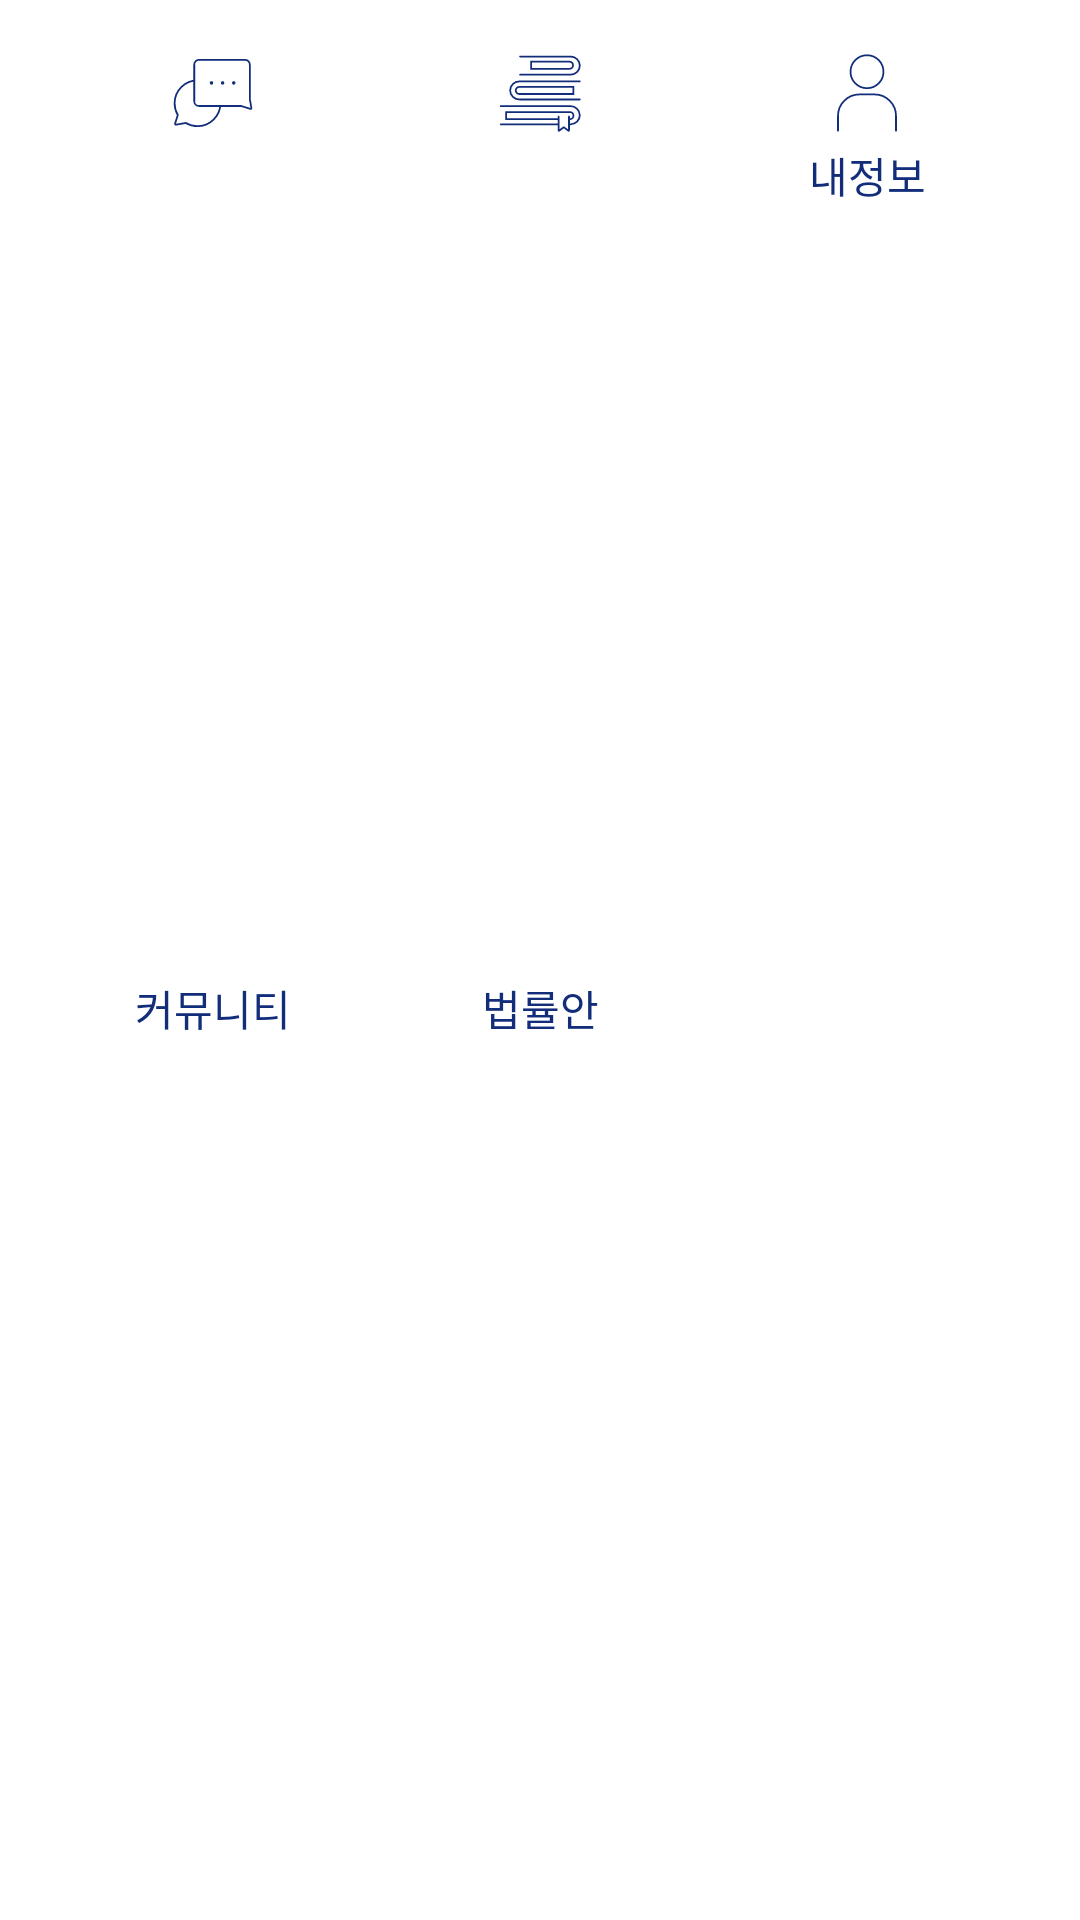

Named icons in this screenshot (1080 x 1920) and their bounding boxes, (x1, y1, x2, y2):
community: (173, 59, 253, 127)
